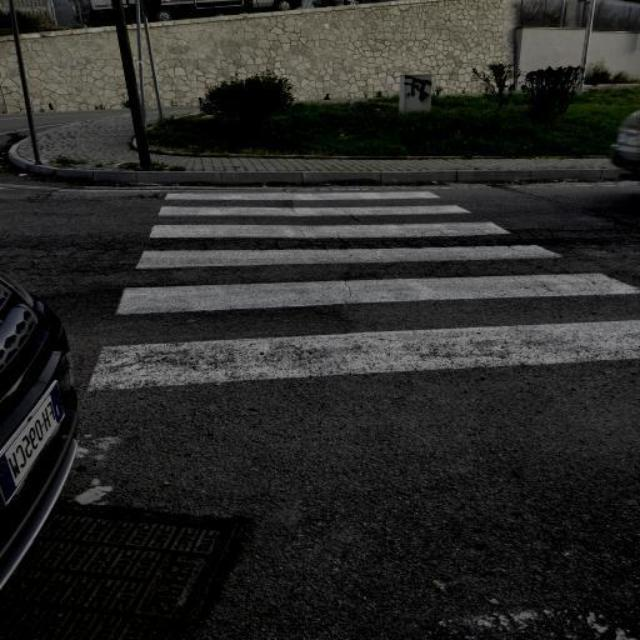sidewalk: (22, 178, 640, 578)
